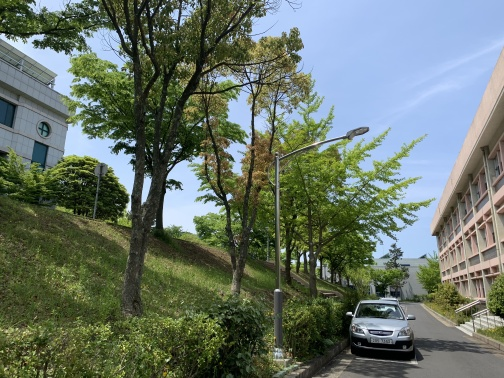College Of Education: (407, 31, 501, 369)
